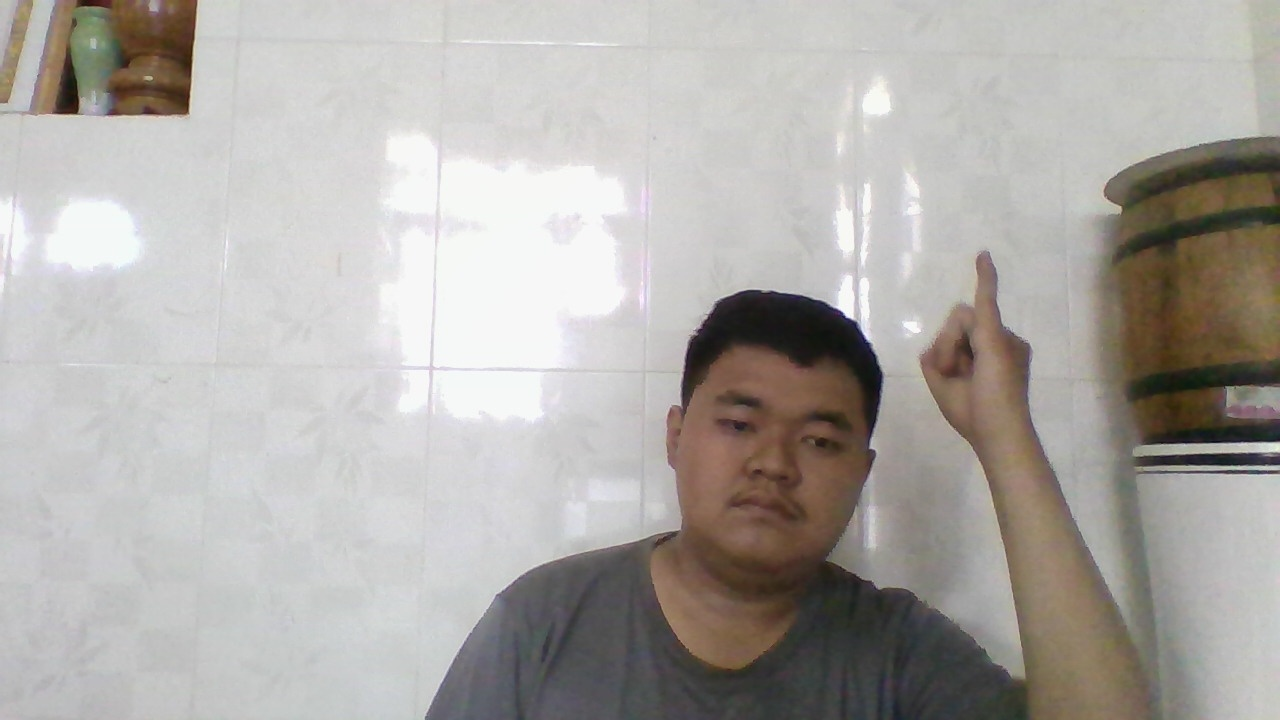I: (910, 242, 1025, 454)
